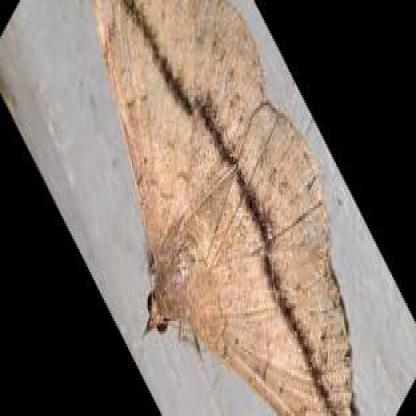Leaf Webber: (90, 1, 359, 413)
